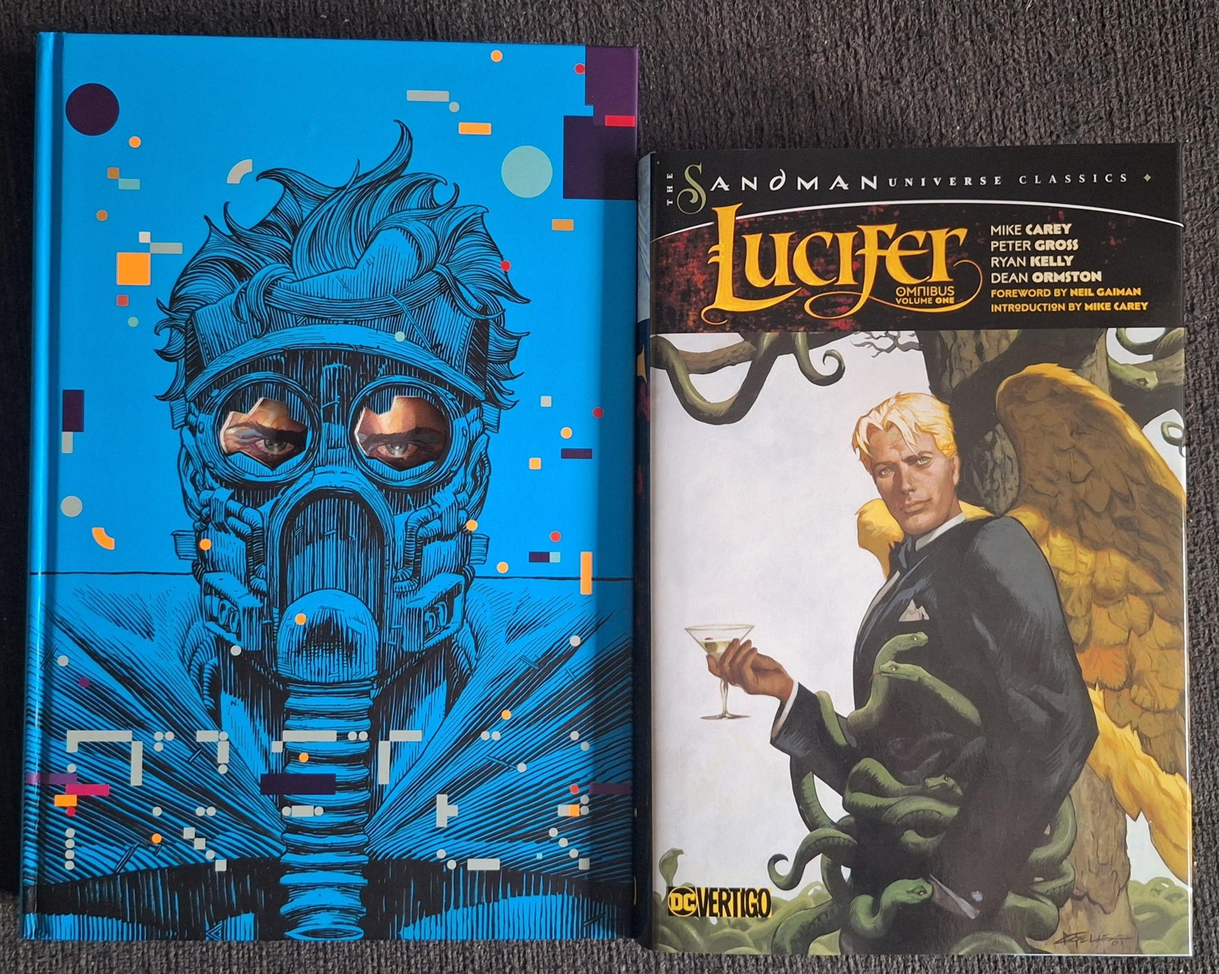comic: (22, 34, 637, 942), (639, 145, 1192, 961)
